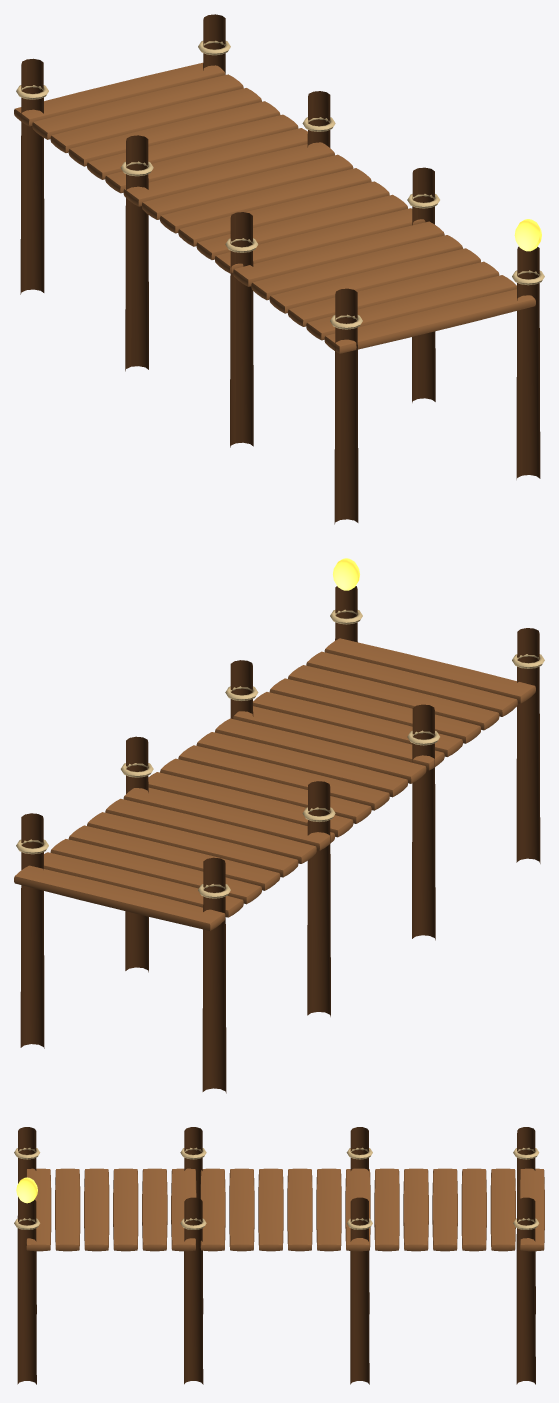
Rendered from pier.glb.
3 views of the same model, one above another, from view 1: azimuth 30°, elevation 25°; view 2: azimuth 150°, elevation 25°; view 3: azimuth 270°, elevation 25° (orthographic). The views are drawn at different scales.
Parts seen in each view (by area): view 1: HarborPier; view 2: HarborPier; view 3: HarborPier.
Boxes of the visible parts, <box> form: HarborPier: <box>14,14,544,524</box>; HarborPier: <box>14,558,544,1093</box>; HarborPier: <box>14,1127,544,1384</box>.
Bounding box in the file's own units: 3.2 × 3.77 × 8.78.
